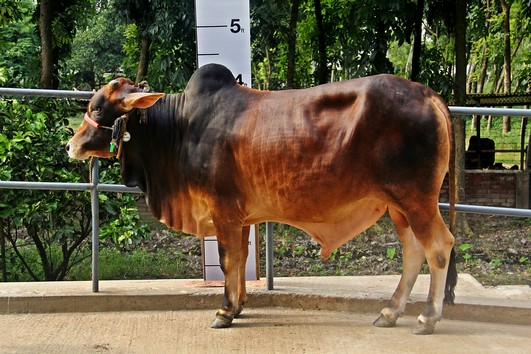cow: (60, 60, 469, 333)
